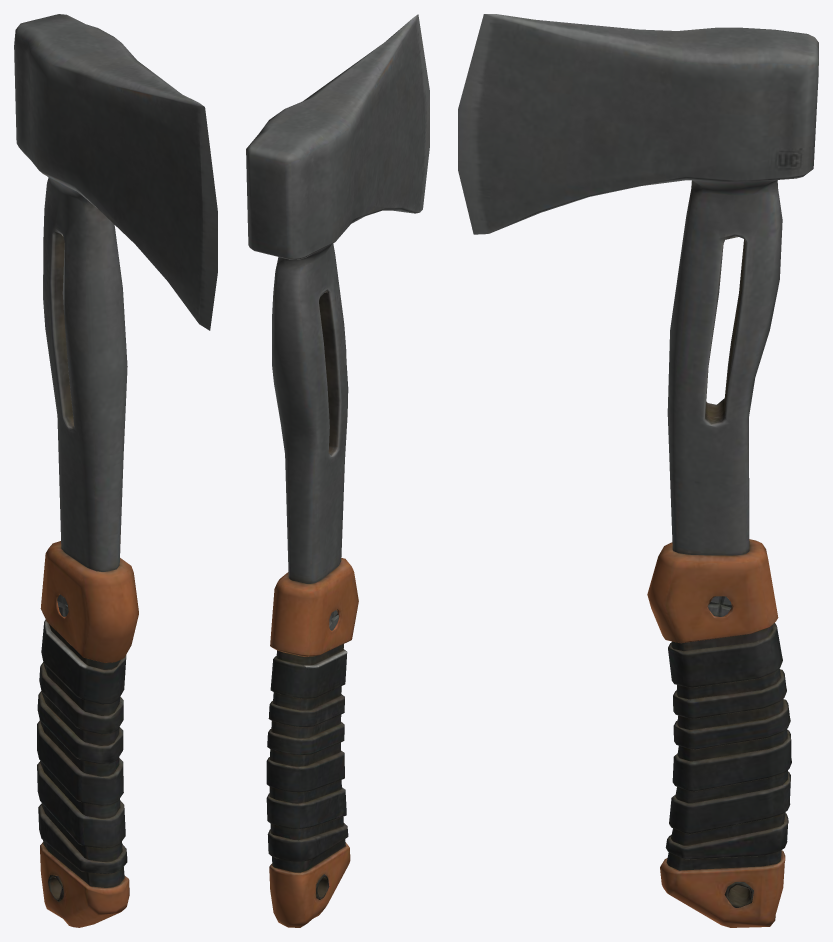
Rendered from hatchet.glb.
The picture shows the model from 3 angles, left to right: view 1: azimuth 30°, elevation 25°; view 2: azimuth 150°, elevation 25°; view 3: azimuth 270°, elevation 25°; orthographic projection. The views are drawn at different scales.
Visible parts, largest first — view 1: hatchet; view 2: hatchet; view 3: hatchet.
Part boxes in pixels (<box>): hatchet: <box>14,14,217,927</box>; hatchet: <box>246,14,429,927</box>; hatchet: <box>458,14,818,927</box>.
Bounding box in the file's own units: 0.0256 × 0.2884 × 0.1037.
Materials: 1 (1 with a texture image).
